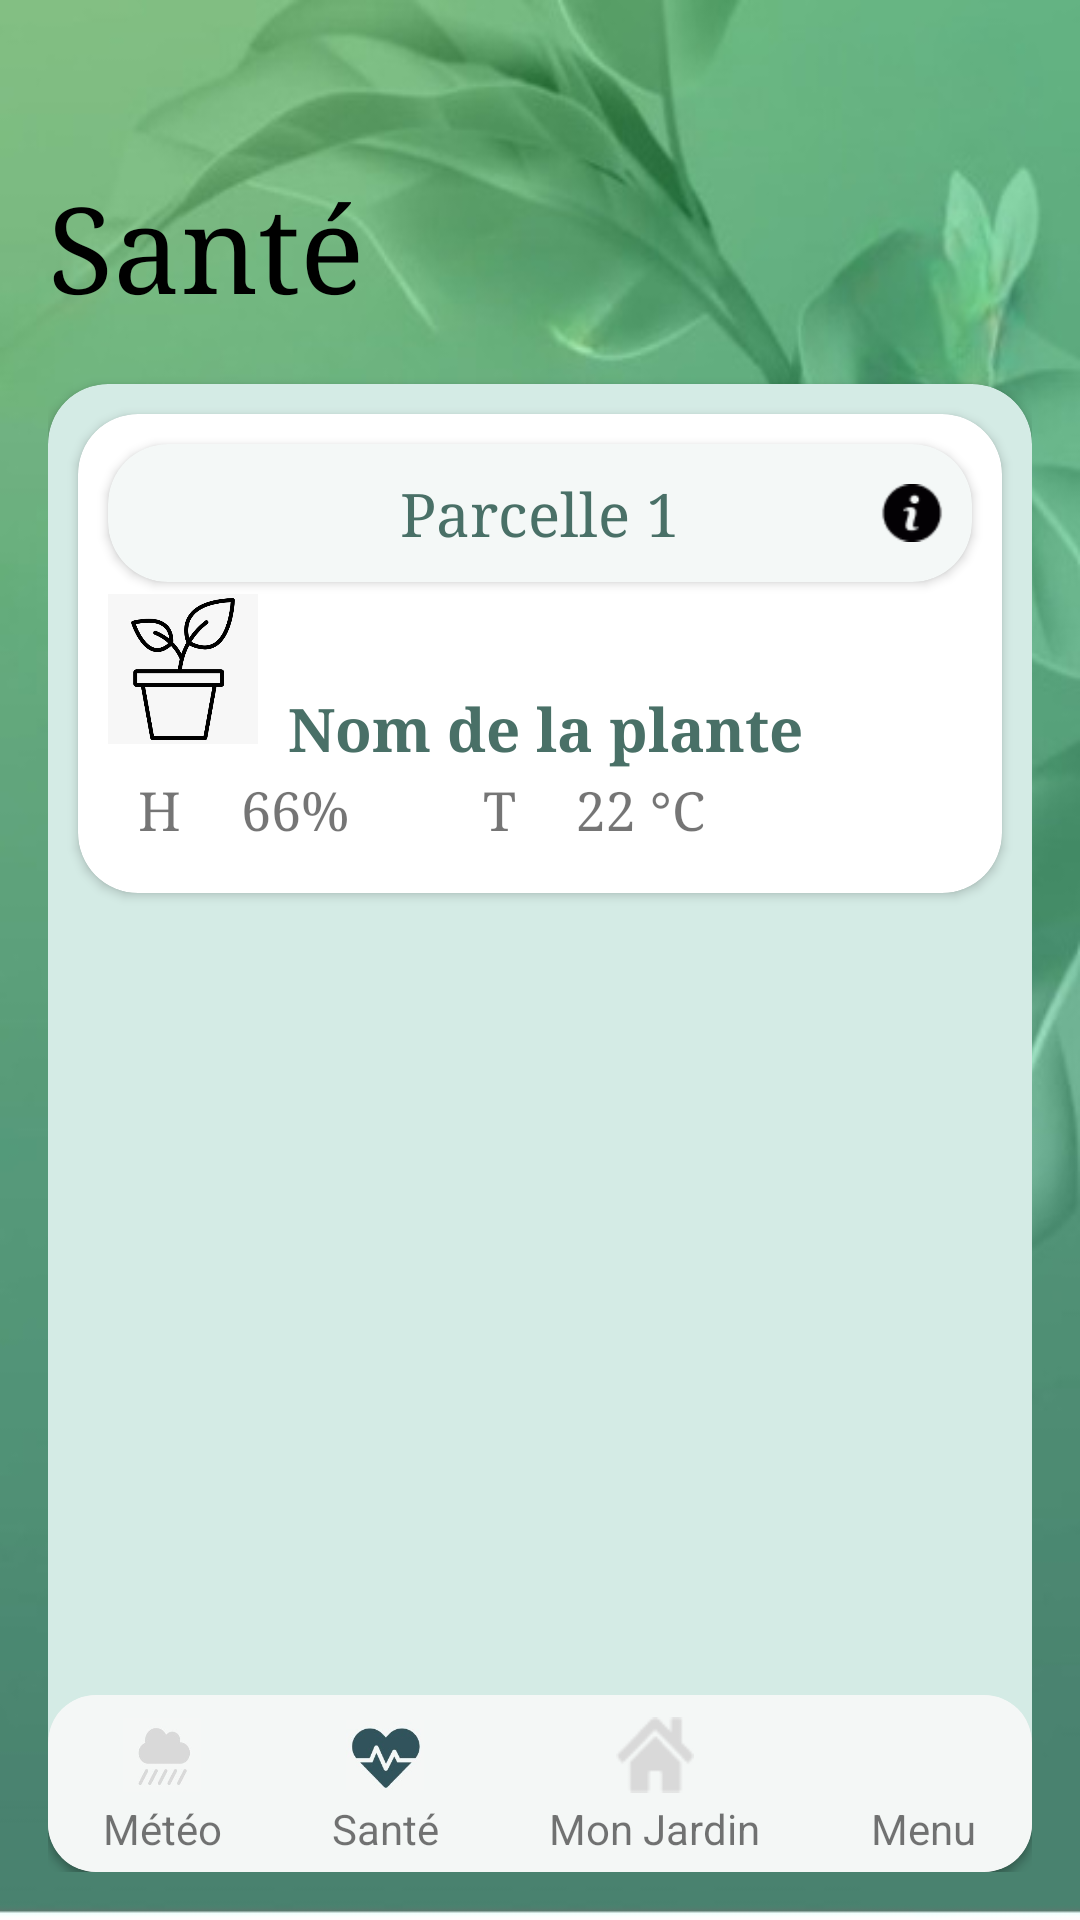

Where to tap for icons on this 1080×1920 app screen, as (x=x, y=y):
info: (x=912, y=513)
